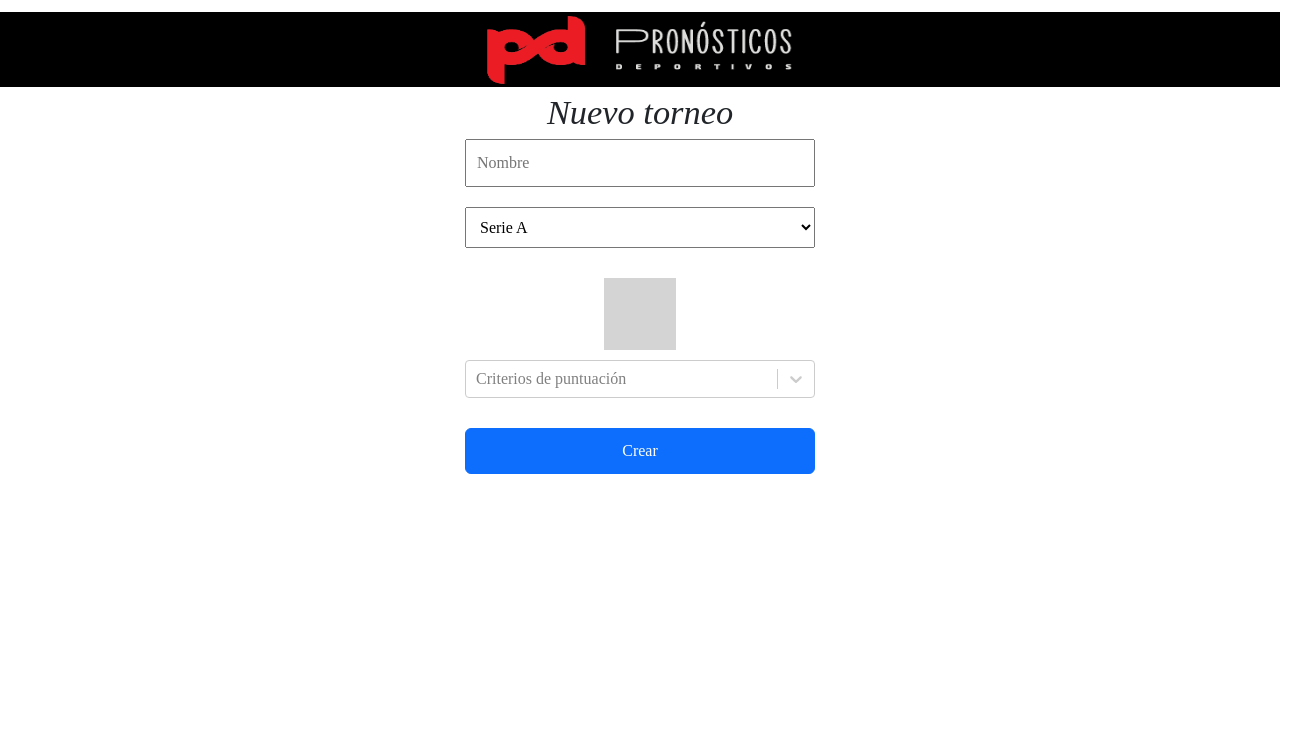
Test: Create Tournament › criterios de puntuación
What coordinates should you click on to do the following:
click the dropdown named "Criterios"
I would click on:
 (478, 379)
Its box is [476, 367, 480, 391].
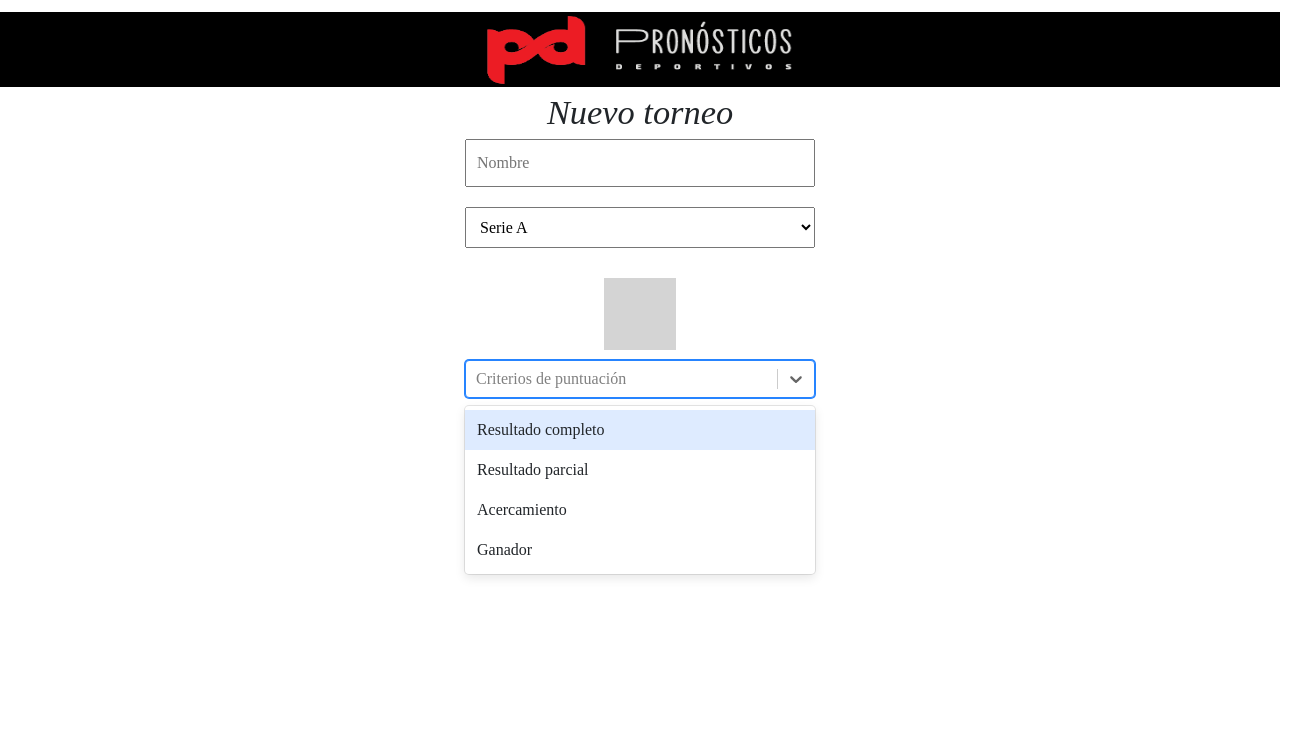
Expected: the option "Resultado completo" is shown, [465, 410, 815, 450]
Expected: the option "Resultado parcial" is shown, [477, 461, 588, 478]
Expected: the option "Acercamiento" is shown, [477, 501, 567, 518]
